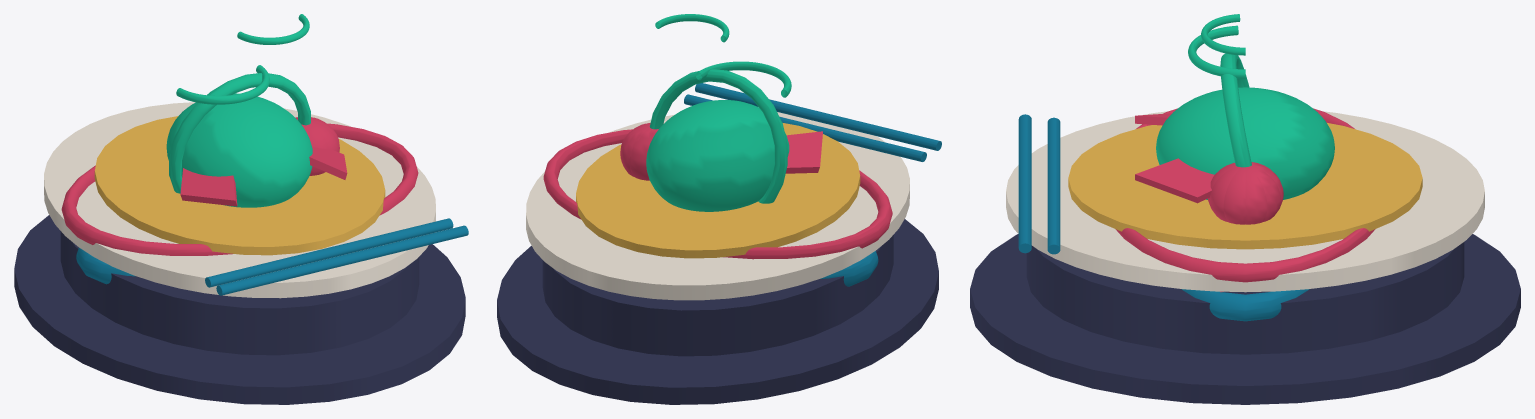
File: 0330_揭秘食物图鉴_太平猴魁.glb
The picture shows the model from 3 angles, left to right: view 1: azimuth 30°, elevation 25°; view 2: azimuth 150°, elevation 25°; view 3: azimuth 270°, elevation 25°; orthographic projection. The views are drawn at different scales.
Parts seen in each view (by area): view 1: card_0330; view 2: card_0330; view 3: card_0330.
Part boxes in pixels (left/top/right/bottom): card_0330: left=14, top=14, right=468, bottom=404; card_0330: left=497, top=14, right=941, bottom=404; card_0330: left=970, top=14, right=1520, bottom=404.
Bounding box in the file's own units: 1.43 × 1 × 1.71.
